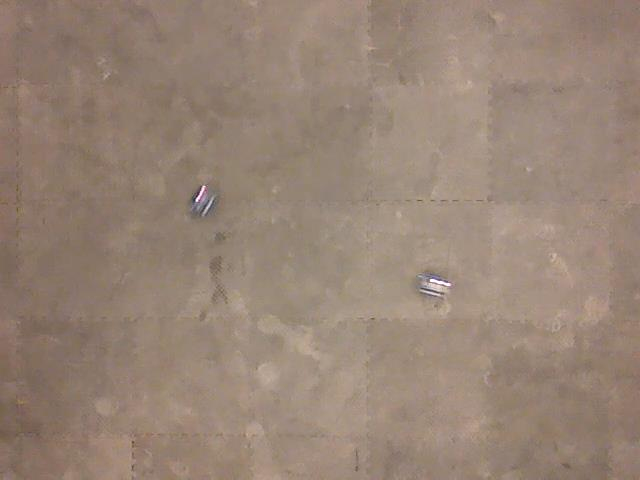Agent: (186, 180, 221, 221), (414, 270, 452, 302)
